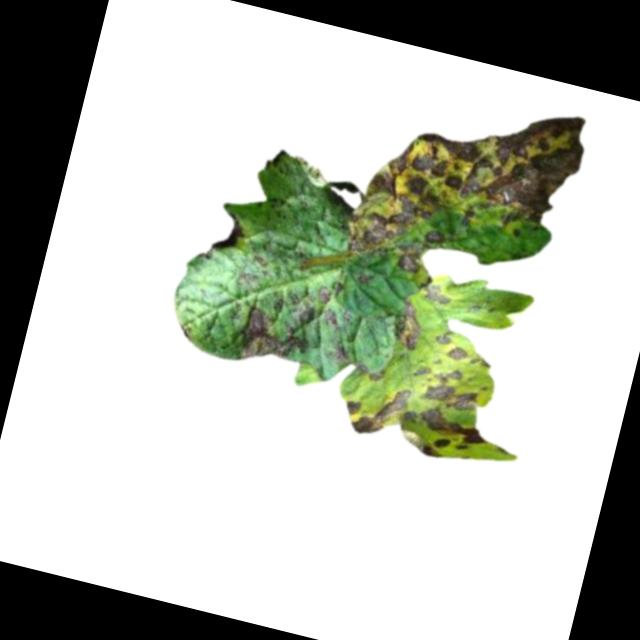Early_blight: (344, 68, 592, 292), (235, 292, 314, 376), (397, 399, 491, 468), (339, 374, 411, 443), (406, 357, 487, 416), (387, 296, 429, 355), (211, 210, 249, 257), (432, 329, 471, 364), (420, 282, 454, 310), (394, 253, 423, 278), (330, 341, 352, 367), (315, 285, 334, 307), (322, 311, 341, 328)
